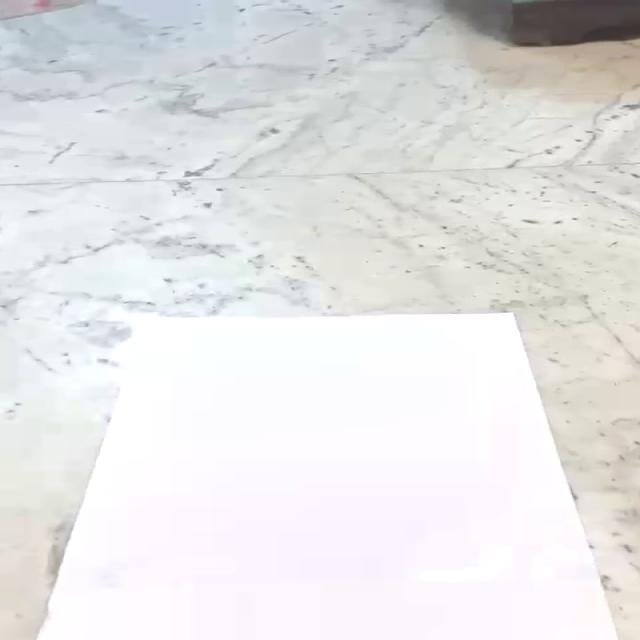road: (35, 313, 620, 640)
